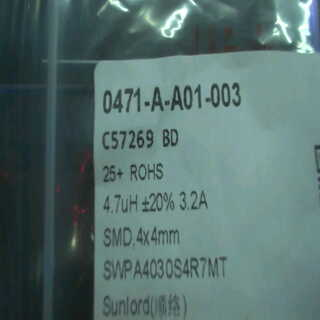4.7uH: (100, 186, 142, 218)
